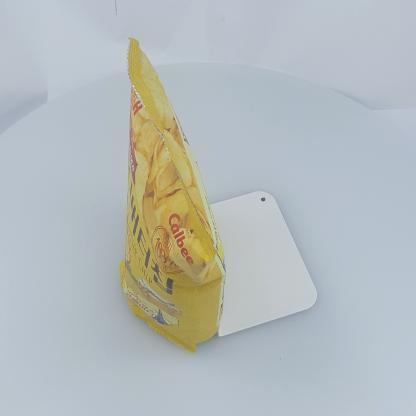Plastic Packaging: (99, 31, 243, 358)
